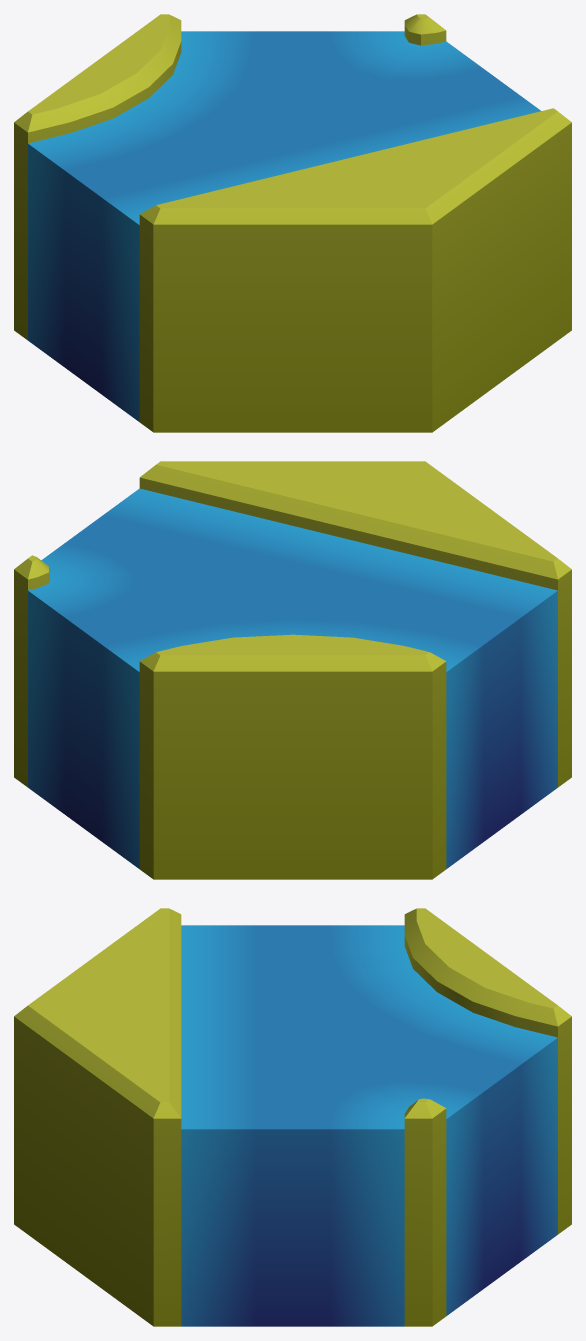
File: hex_river_e.glb
The picture shows the model from 3 angles, top to bottom: view 1: azimuth 30°, elevation 25°; view 2: azimuth 150°, elevation 25°; view 3: azimuth 270°, elevation 25°; orthographic projection.
Parts seen in each view (by area): view 1: hex_river_E; view 2: hex_river_E; view 3: hex_river_E.
Boxes of the visible parts, box(x1,y1,x2,y2) form: hex_river_E: box(14, 14, 571, 432); hex_river_E: box(14, 461, 571, 879); hex_river_E: box(14, 908, 571, 1326).
Bounding box in the file's own units: 2 × 1 × 2.31.
1 material, 1 textured.
